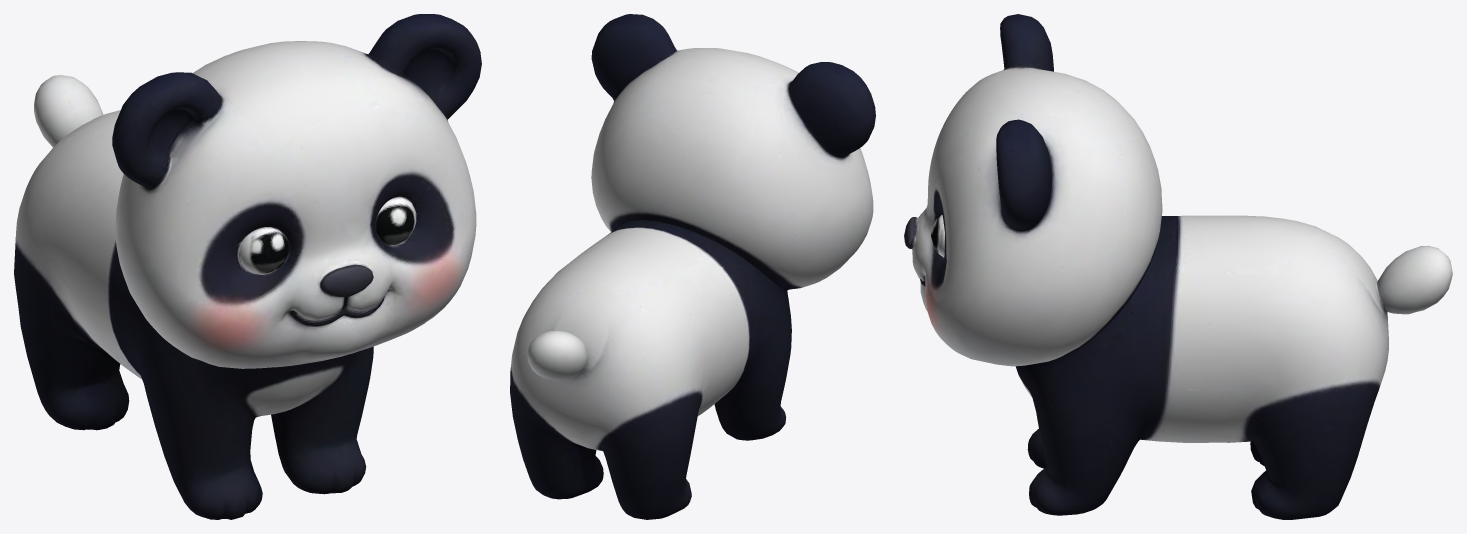
File: pet_panda.glb
3 views of the same model, side by side, from view 1: azimuth 30°, elevation 25°; view 2: azimuth 150°, elevation 25°; view 3: azimuth 270°, elevation 25° (orthographic). The views are drawn at different scales.
Parts seen in each view (by area): view 1: node_0; view 2: node_0; view 3: node_0.
Part boxes in pixels (x1,y1,x2,y2): node_0: [14, 14, 481, 519]; node_0: [510, 14, 875, 519]; node_0: [904, 14, 1452, 519].
Bounding box in the file's own units: 0.6857 × 0.8594 × 1.03.
Materials: 1 (1 with a texture image).
